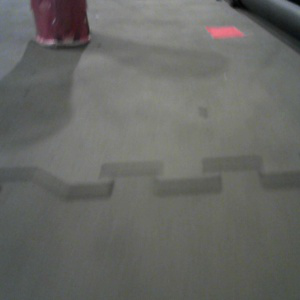Middle: (30, 1, 91, 48)
